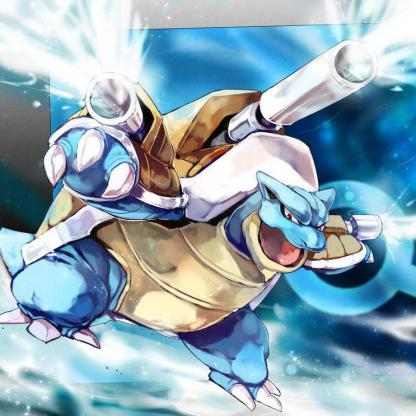Blastoise: (1, 4, 416, 416)
